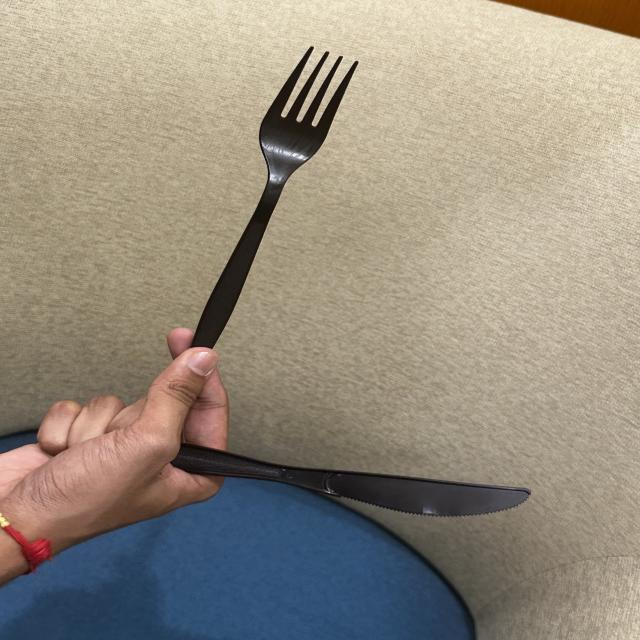fork: (127, 29, 419, 368)
knife: (53, 386, 555, 548)
